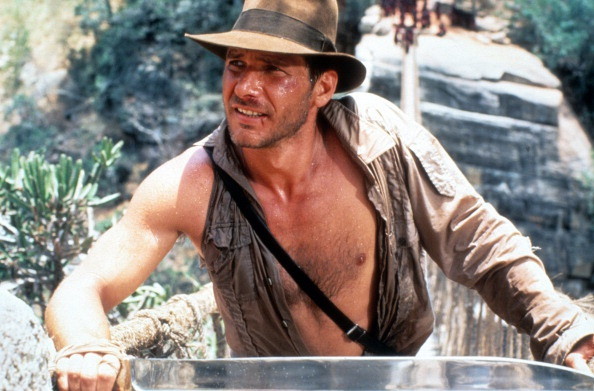bad: (199, 32, 306, 140)
